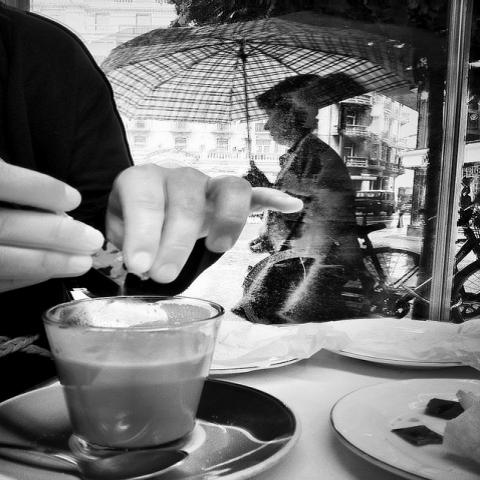car: (354, 192, 394, 216)
